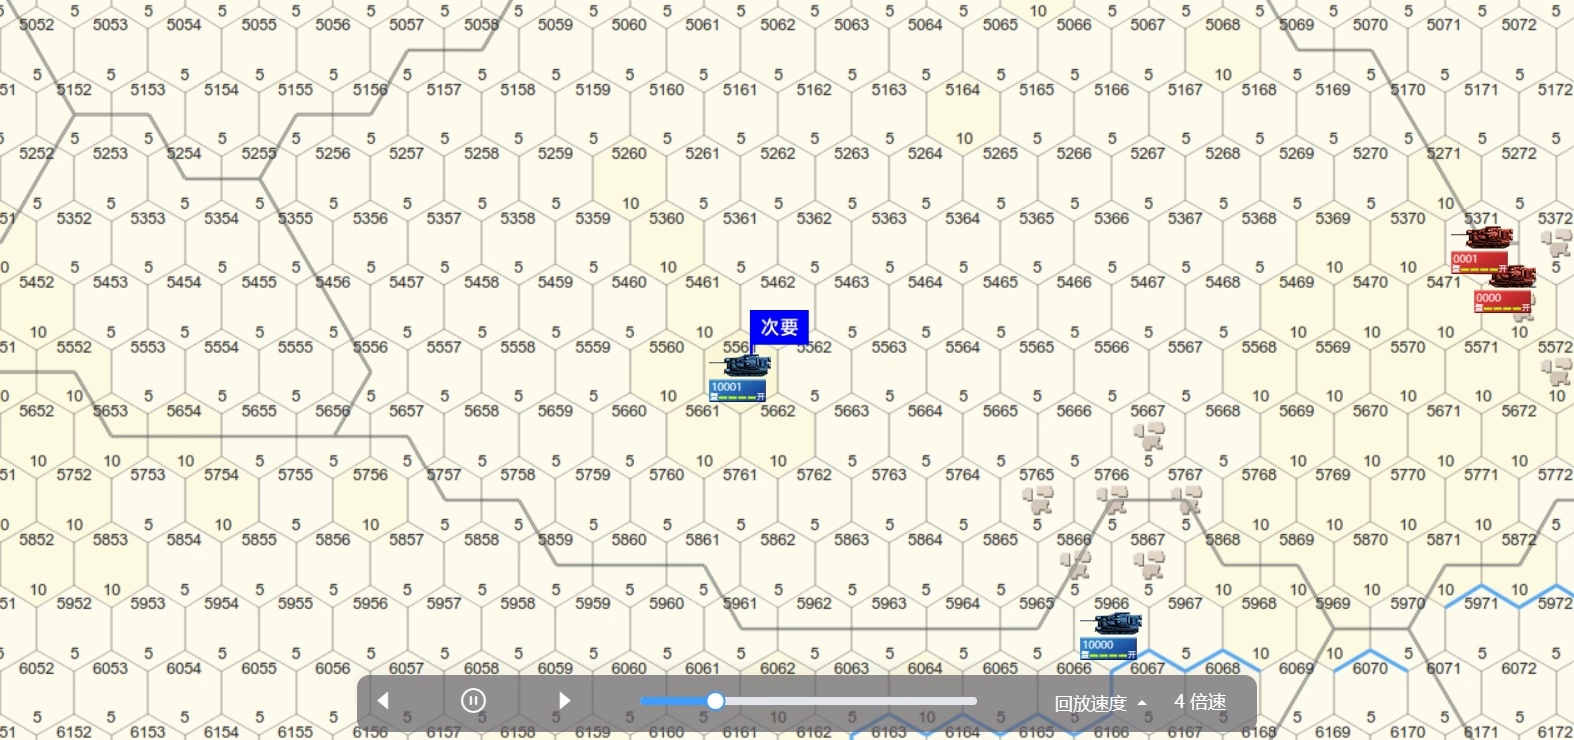blue_tank: (1079, 610, 1144, 655), (705, 358, 771, 398)
red_tank: (1447, 222, 1508, 269), (1476, 273, 1541, 308)
